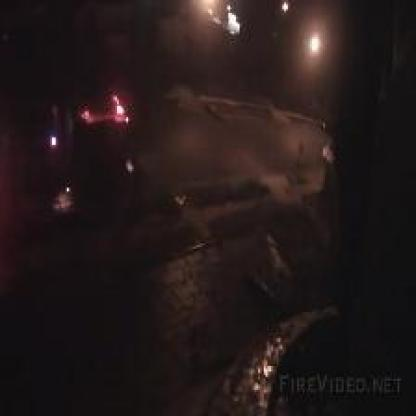other: (78, 80, 146, 126), (283, 16, 336, 72)
